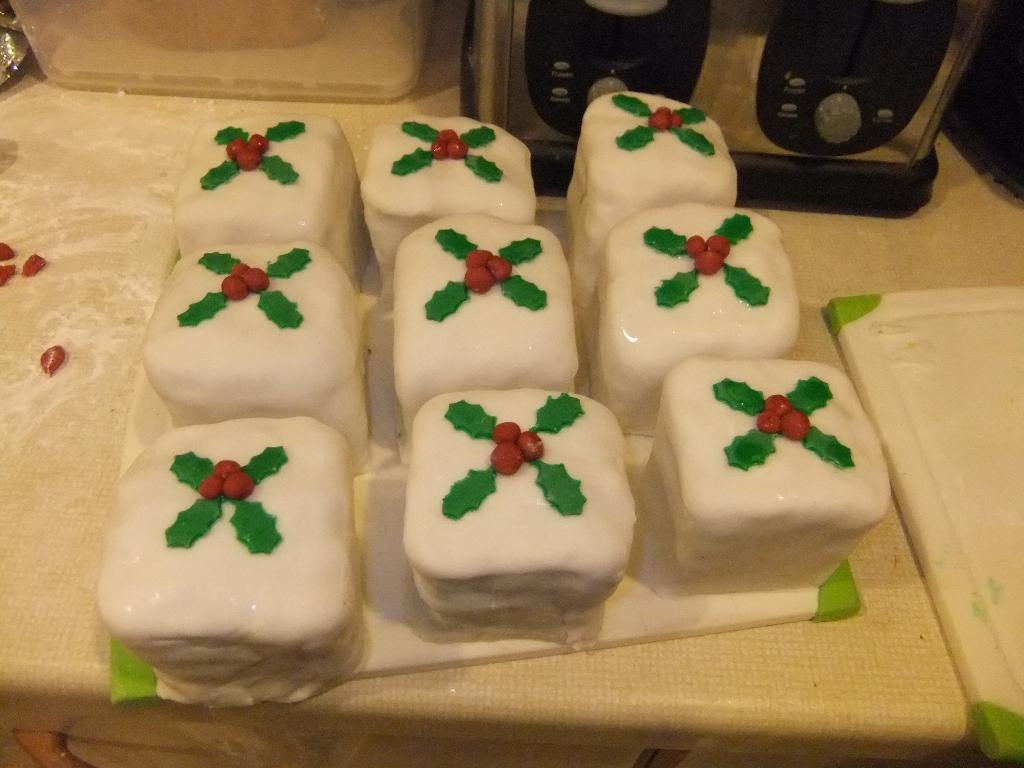cake: (100, 417, 350, 703), (402, 394, 612, 651), (662, 357, 890, 586), (589, 201, 800, 433), (144, 244, 365, 460), (562, 91, 737, 284), (174, 116, 358, 282), (361, 114, 530, 279)
